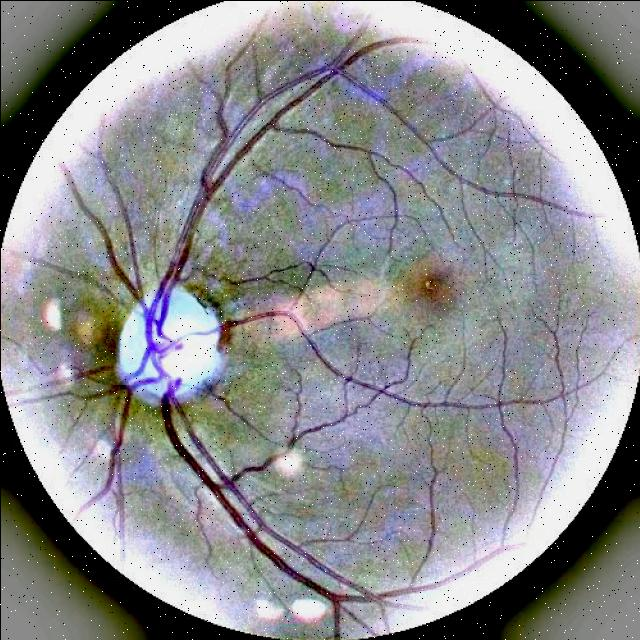Macula: (378, 244, 469, 335)
Nerves: (134, 103, 338, 597), (98, 262, 233, 419)
